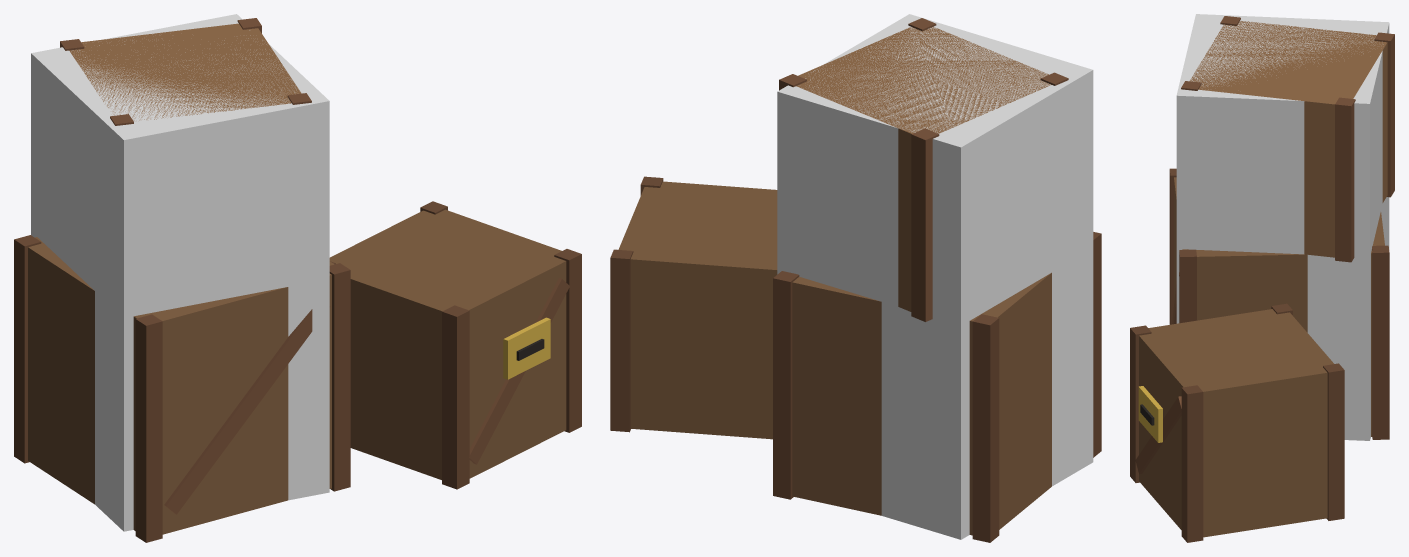
File: camp_crate_stack.glb
The picture shows the model from 3 angles, left to right: view 1: azimuth 30°, elevation 25°; view 2: azimuth 150°, elevation 25°; view 3: azimuth 270°, elevation 25°; orthographic projection. The views are drawn at different scales.
Parts seen in each view (by area): view 1: Body, camp_crate_stack-col-col; view 2: Body, camp_crate_stack-col-col; view 3: Body, camp_crate_stack-col-col.
Part boxes in pixels (left/top/right/bottom): Body: left=14, top=18, right=581, bottom=542; camp_crate_stack-col-col: left=31, top=14, right=329, bottom=531; Body: left=610, top=18, right=1101, bottom=542; camp_crate_stack-col-col: left=777, top=14, right=1093, bottom=539; Body: left=1130, top=16, right=1394, bottom=542; camp_crate_stack-col-col: left=1176, top=14, right=1389, bottom=440.
Bounding box in the file's own units: 2.68 × 2.22 × 1.57.
